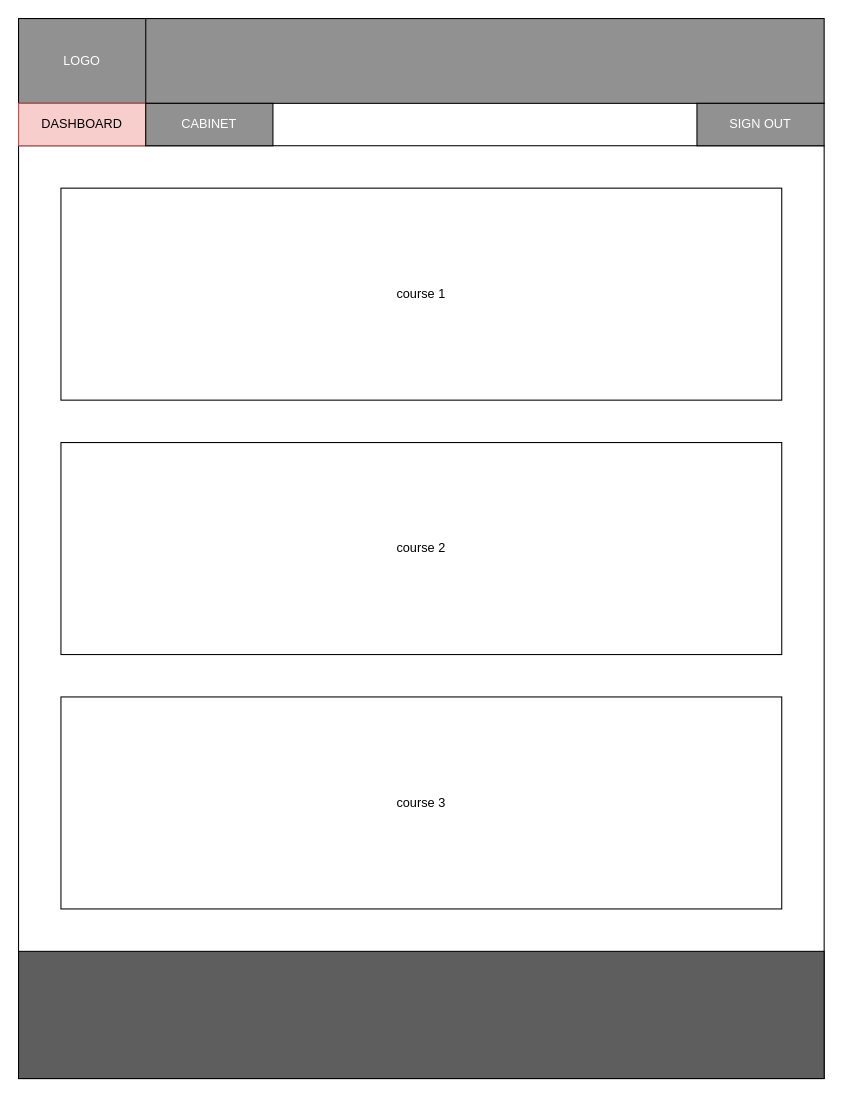
Image size: 843x1106. Some labels were removed from this diagram. The box of each missing label's shape, as (x1, y1, x2, y2) in pixels:
FOOTER: (17, 950, 824, 1079)
HEADER: (17, 17, 824, 103)
